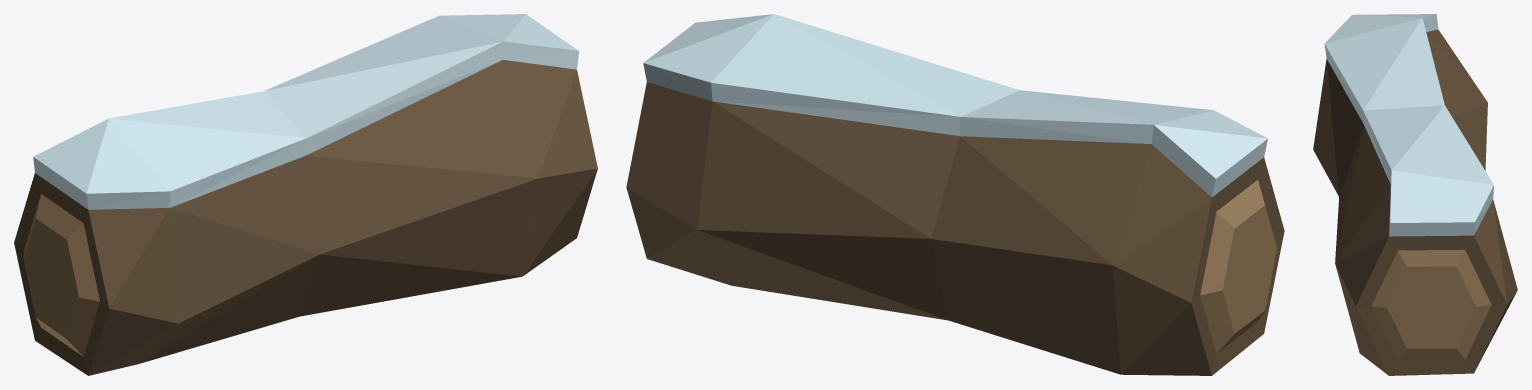
File: Log.fbx
3 views of the same model, side by side, from view 1: azimuth 30°, elevation 25°; view 2: azimuth 150°, elevation 25°; view 3: azimuth 270°, elevation 25° (orthographic). The views are drawn at different scales.
Parts seen in each view (by area): view 1: SM_Prop_Logs_01_Snow; view 2: SM_Prop_Logs_01_Snow; view 3: SM_Prop_Logs_01_Snow.
Boxes of the visible parts, x1,y1,x2,y2 form: SM_Prop_Logs_01_Snow: (14,14,597,375); SM_Prop_Logs_01_Snow: (626,14,1284,375); SM_Prop_Logs_01_Snow: (1313,14,1517,375).
Size of the model in its own units: 104 by 42.51 by 42.19.
